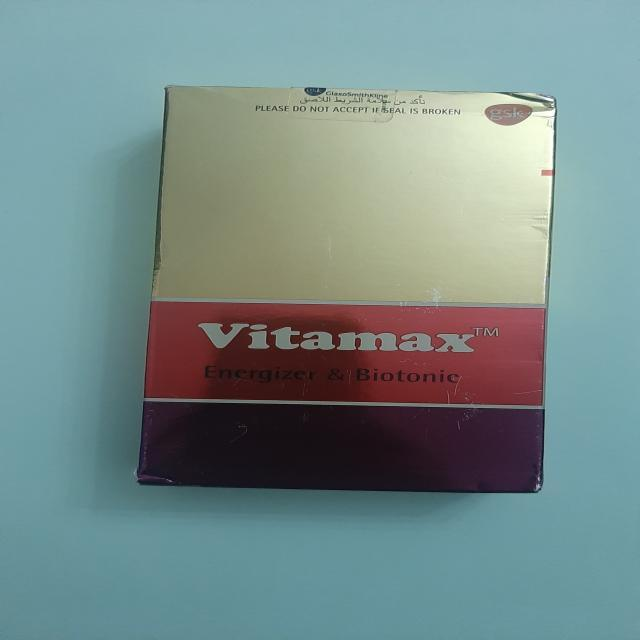Medicine Name: (182, 312, 476, 362)
